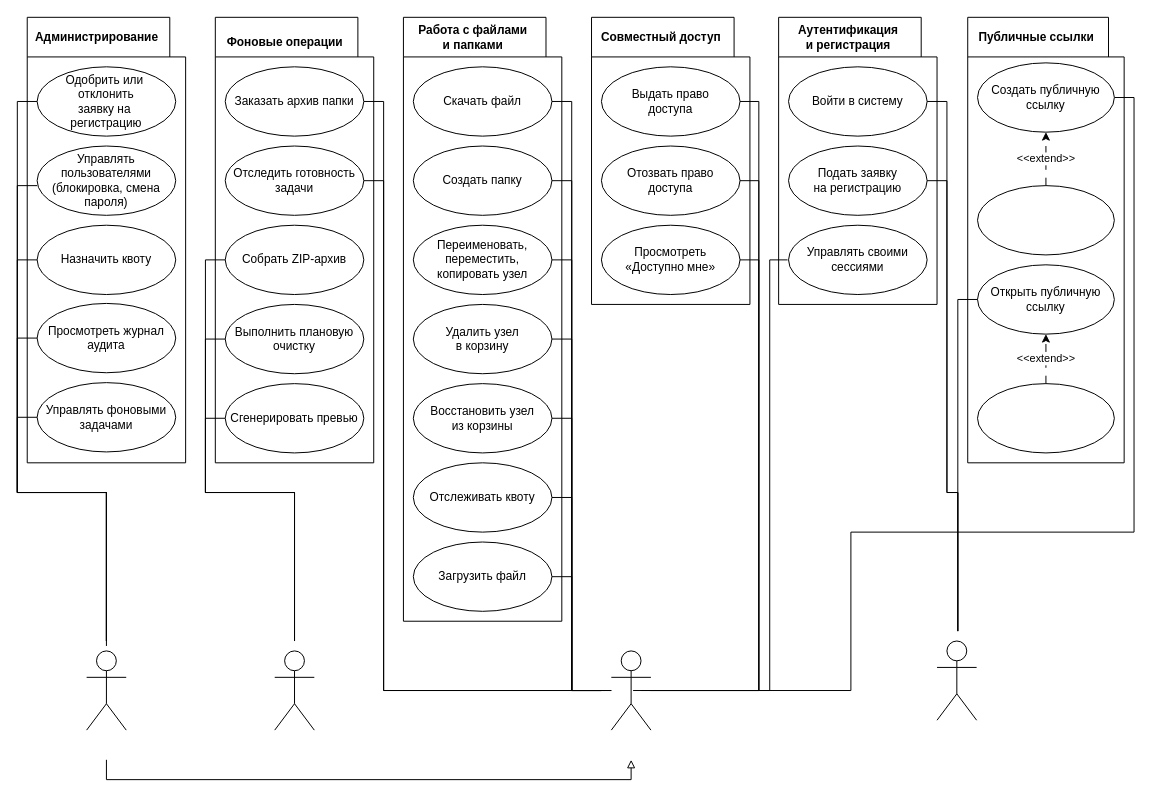
Some shapes in this 1152 by 805 pixel diagram are drawn without their labels. The centre of each missing label's shape, as x and y in pixels:
"Администратор" belongs at (106,690).
"Ввести пароль ссылки" belongs at (1045,220).
"Гость" belongs at (956,680).
"Настроить пароль и срок ссылки" belongs at (1045,418).
"Пользователь" belongs at (630,690).
"Фоновый обработчик" belongs at (294,690).
